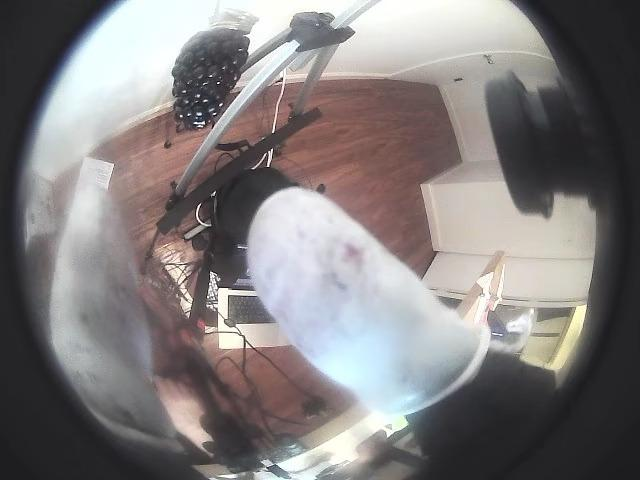berry: (172, 27, 249, 129)
gripper: (248, 187, 489, 414), (49, 177, 178, 450)
lense: (0, 0, 167, 479), (492, 0, 639, 479)
